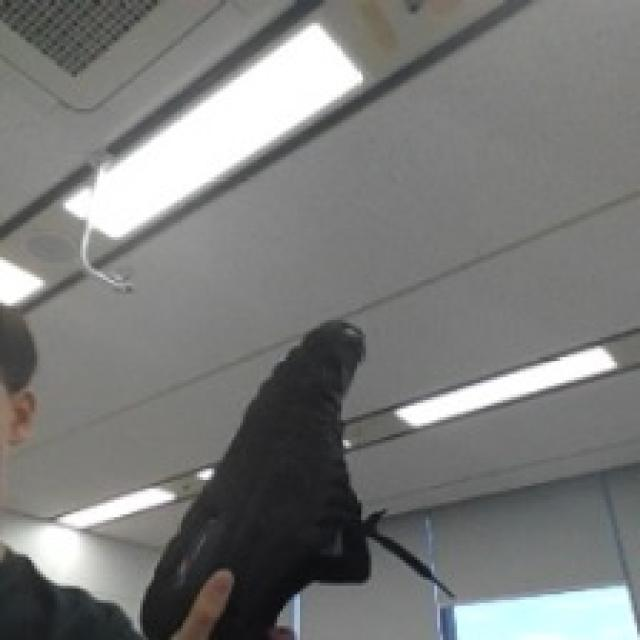shoe: (142, 311, 379, 640)
